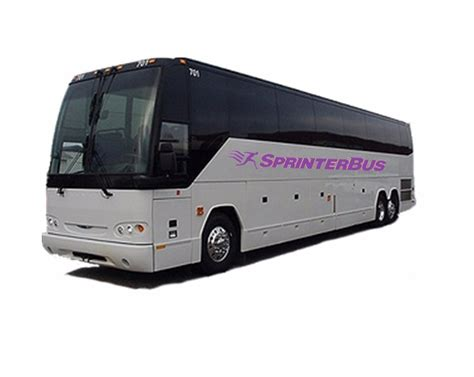bus: (53, 71, 416, 270)
